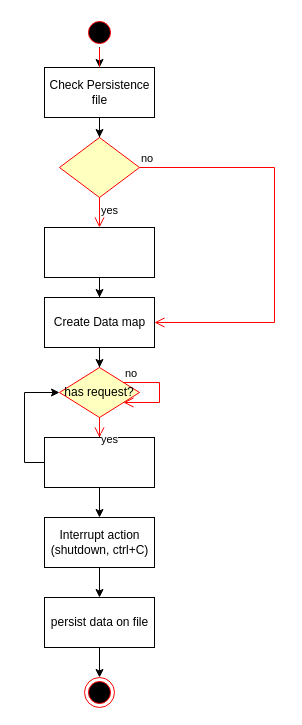
Image size: 302x725. Some labels were removed from this diagram. The centre of each missing label's shape, as x and y in pixels:
"Add as initial data" goes at (99,252).
"has data?" goes at (99,167).
"Insert/Append data" goes at (99,462).
